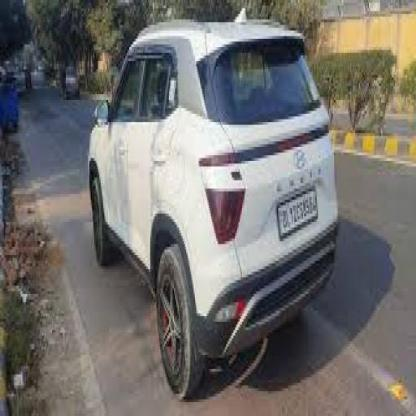car: (80, 9, 348, 405)
